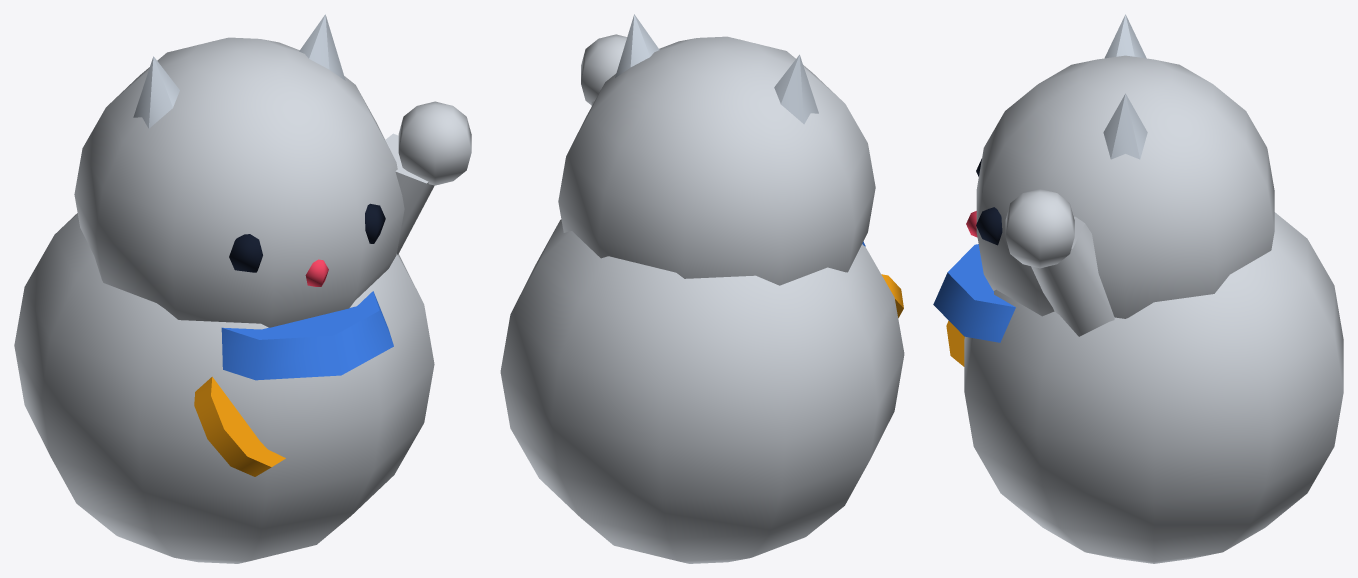
Rendered from pawn_cat.glb.
3 views of the same model, side by side, from view 1: azimuth 30°, elevation 25°; view 2: azimuth 150°, elevation 25°; view 3: azimuth 270°, elevation 25° (orthographic). The views are drawn at different scales.
Visible parts, largest first — view 1: Pawn_Cat_Fortune; view 2: Pawn_Cat_Fortune; view 3: Pawn_Cat_Fortune.
Part boxes in pixels (box(x1,y1,x2,y2)): Pawn_Cat_Fortune: box(14, 14, 471, 563); Pawn_Cat_Fortune: box(500, 14, 904, 563); Pawn_Cat_Fortune: box(933, 14, 1343, 563).
Bounding box in the file's own units: 0.283 × 0.382 × 0.2881.
